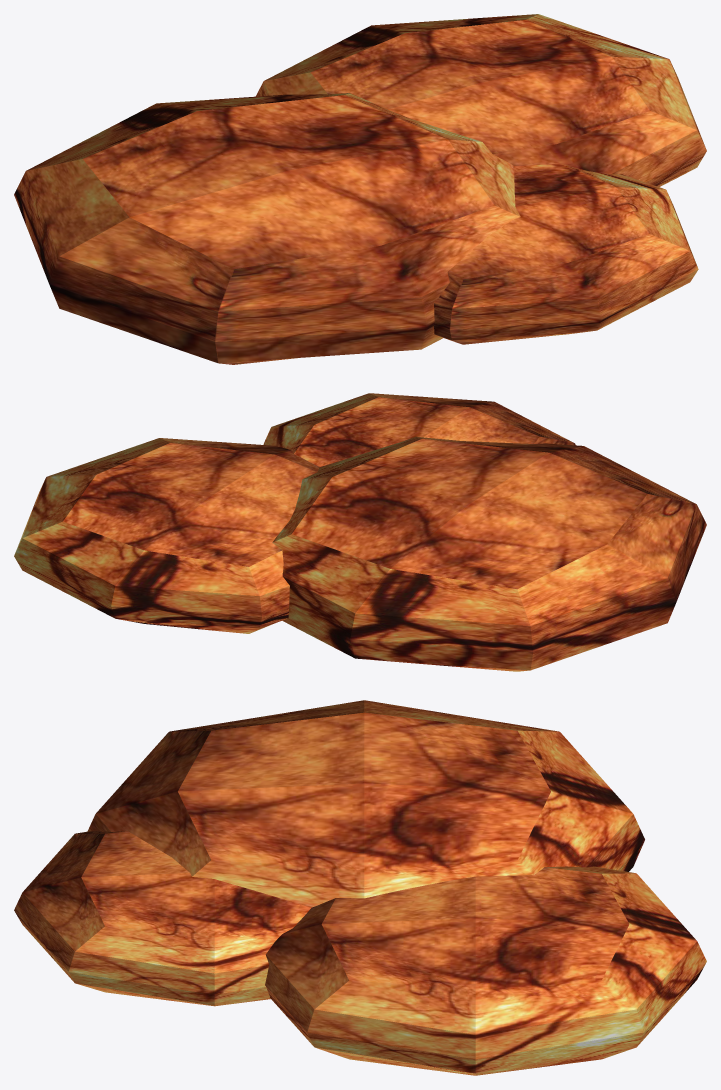
File: purification_progress_sample.glb
3 renders of one model, top to bottom at view 1: azimuth 30°, elevation 25°; view 2: azimuth 150°, elevation 25°; view 3: azimuth 270°, elevation 25°, orthographic. The views are drawn at different scales.
Visible parts, largest first — view 1: Fleshballs; view 2: Fleshballs; view 3: Fleshballs.
Boxes of the visible parts, <box> form: Fleshballs: <box>14,14,706,364</box>; Fleshballs: <box>14,393,706,671</box>; Fleshballs: <box>14,700,706,1075</box>.
Size of the model in its own units: 3.53 by 0.5933 by 3.05.
1 material, 1 textured.
